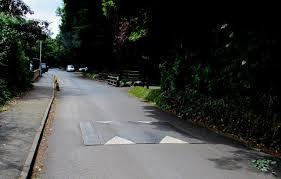Bump: (76, 119, 211, 143)
